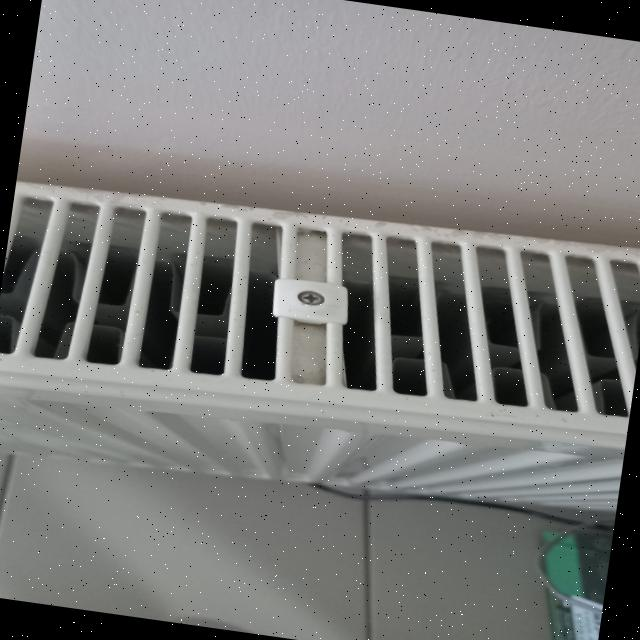Phillips: (268, 277, 352, 320)
